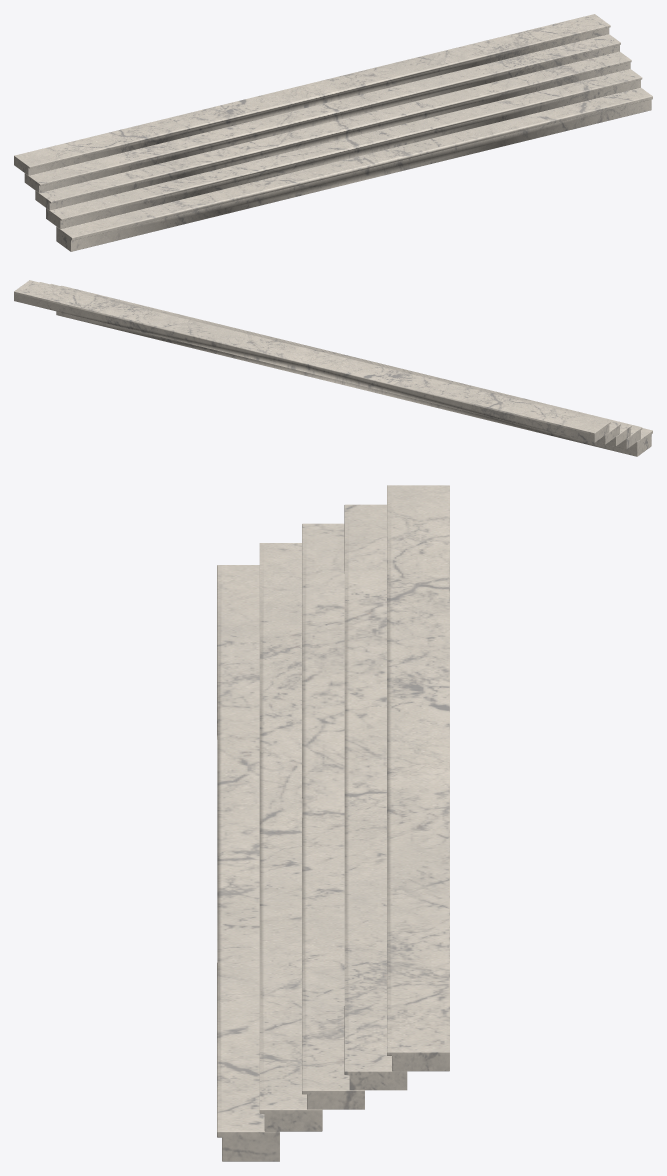
File: staris_middle_with_texture.fbx
The picture shows the model from 3 angles, top to bottom: view 1: azimuth 30°, elevation 25°; view 2: azimuth 150°, elevation 25°; view 3: azimuth 270°, elevation 25°; orthographic projection. The views are drawn at different scales.
Visible parts, largest first — view 1: stairs_to_3_UV_re2; view 2: stairs_to_3_UV_re2; view 3: stairs_to_3_UV_re2.
Part boxes in pixels (x1,y1,x2,y2): stairs_to_3_UV_re2: [14, 14, 652, 251]; stairs_to_3_UV_re2: [14, 280, 652, 456]; stairs_to_3_UV_re2: [217, 485, 449, 1161].
Bounding box in the file's own units: 14.8 × 1.33 × 2.57.
Materials: 1 (1 with a texture image).
